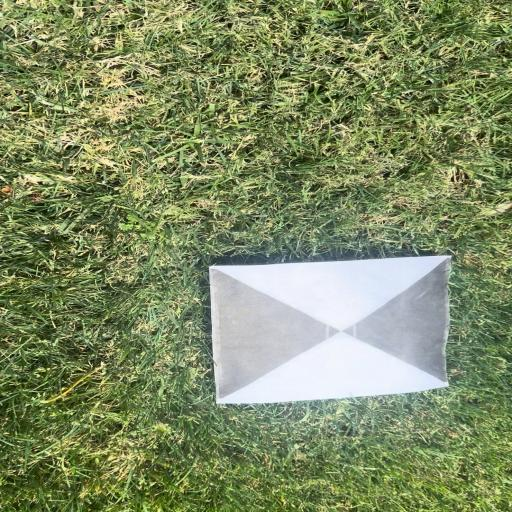target: (209, 254, 452, 403)
